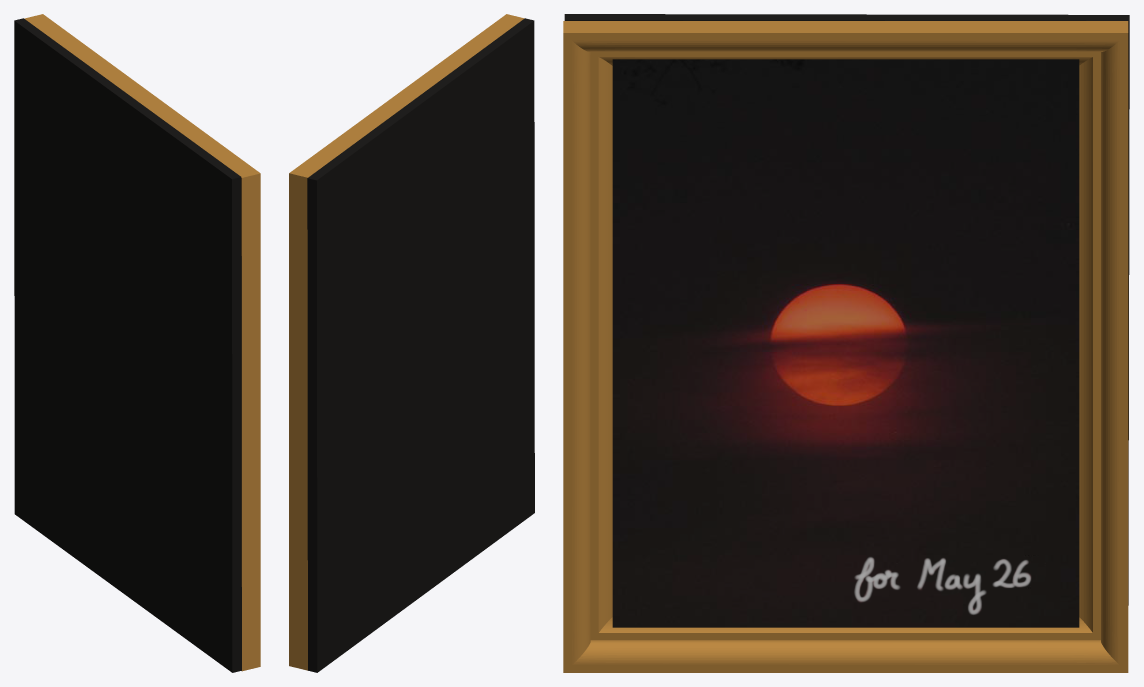
The picture shows the model from 3 angles, left to right: view 1: azimuth 30°, elevation 25°; view 2: azimuth 150°, elevation 25°; view 3: azimuth 270°, elevation 25°; orthographic projection. The views are drawn at different scales.
Parts seen in each view (by area): view 1: frame.001_3, back panel.001_2; view 2: frame.001_3, back panel.001_2; view 3: frame.001_3, back panel.001_2.
Part boxes in pixels (<box>): frame.001_3: <box>14,18,241,672</box>; back panel.001_2: <box>24,14,260,671</box>; frame.001_3: <box>307,18,534,672</box>; back panel.001_2: <box>289,14,524,670</box>; frame.001_3: <box>564,14,1129,627</box>; back panel.001_2: <box>563,21,1128,672</box>.
Bounding box in the file's own units: 0.75 × 12.52 × 10.02.
3 materials, 1 textured.
